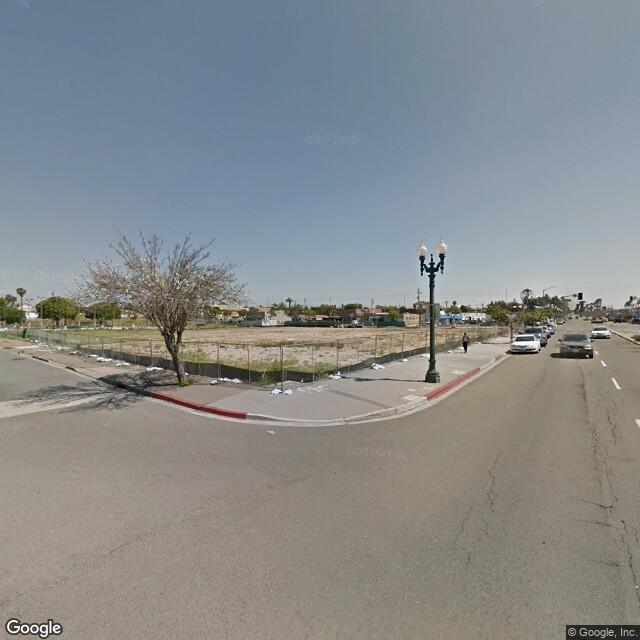litter: (209, 372, 253, 396), (73, 345, 111, 360), (364, 358, 391, 377), (324, 372, 355, 386), (165, 367, 198, 380), (266, 427, 288, 446), (50, 340, 74, 357), (390, 351, 418, 365), (266, 379, 284, 398), (140, 360, 164, 374), (270, 387, 298, 397), (439, 347, 474, 355), (115, 354, 132, 370), (25, 334, 45, 345), (96, 355, 118, 363), (421, 348, 431, 357)
